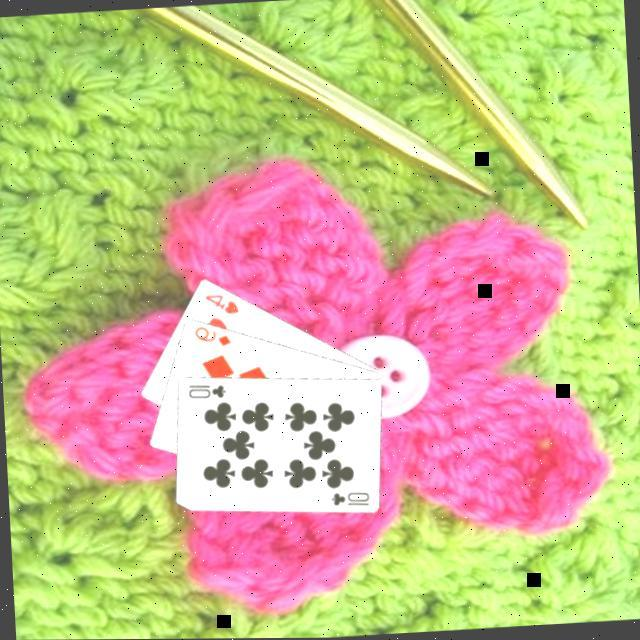10C: (329, 489, 374, 511), (187, 381, 231, 403)
4H: (203, 290, 244, 319)
9D: (193, 322, 236, 351)
